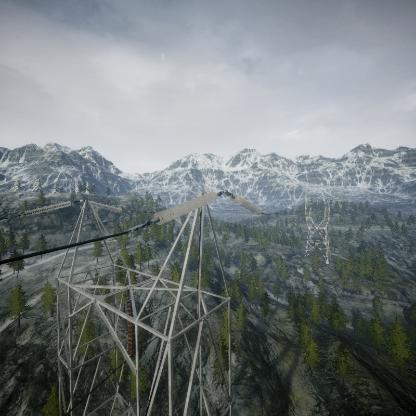insulator: (153, 189, 217, 225), (20, 201, 73, 218), (229, 191, 264, 216), (127, 299, 136, 359), (88, 199, 124, 213)
